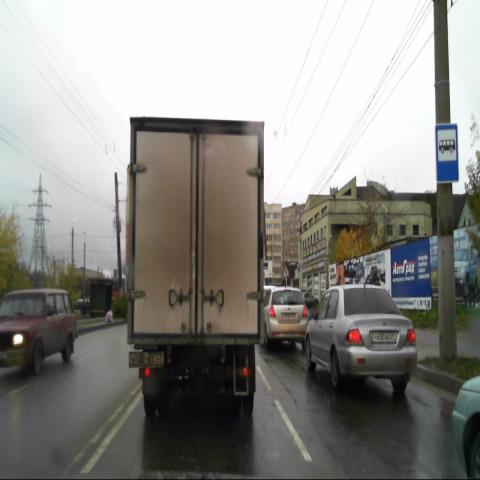5_16: (436, 123, 459, 183)
